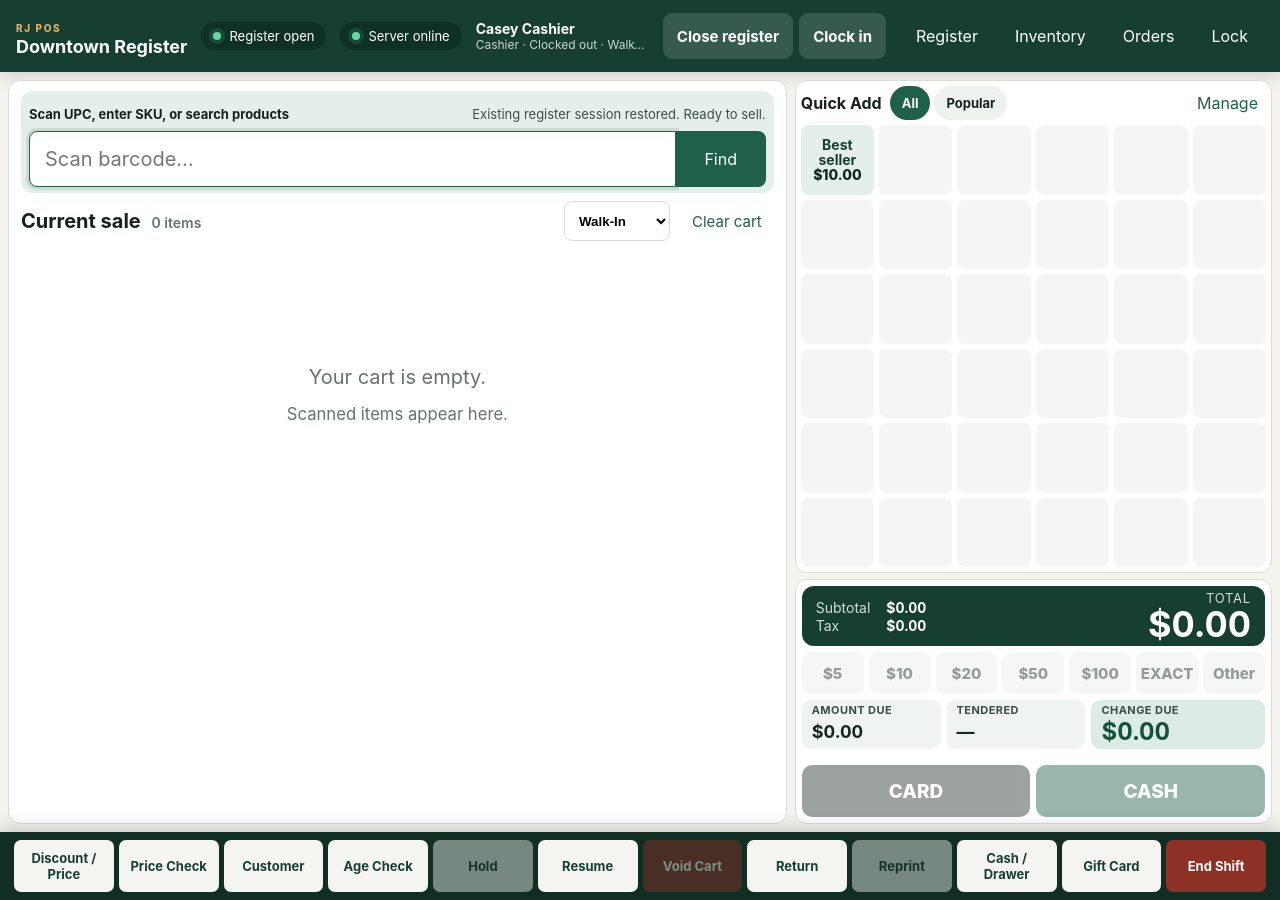
Scenario: Phase 7 touch register and HID scanning › holds the active cart with cashier-safe feedback
The image size is (1280, 900).
Click the button "Best seller $10.00": x=837, y=160 [801, 125, 874, 194]
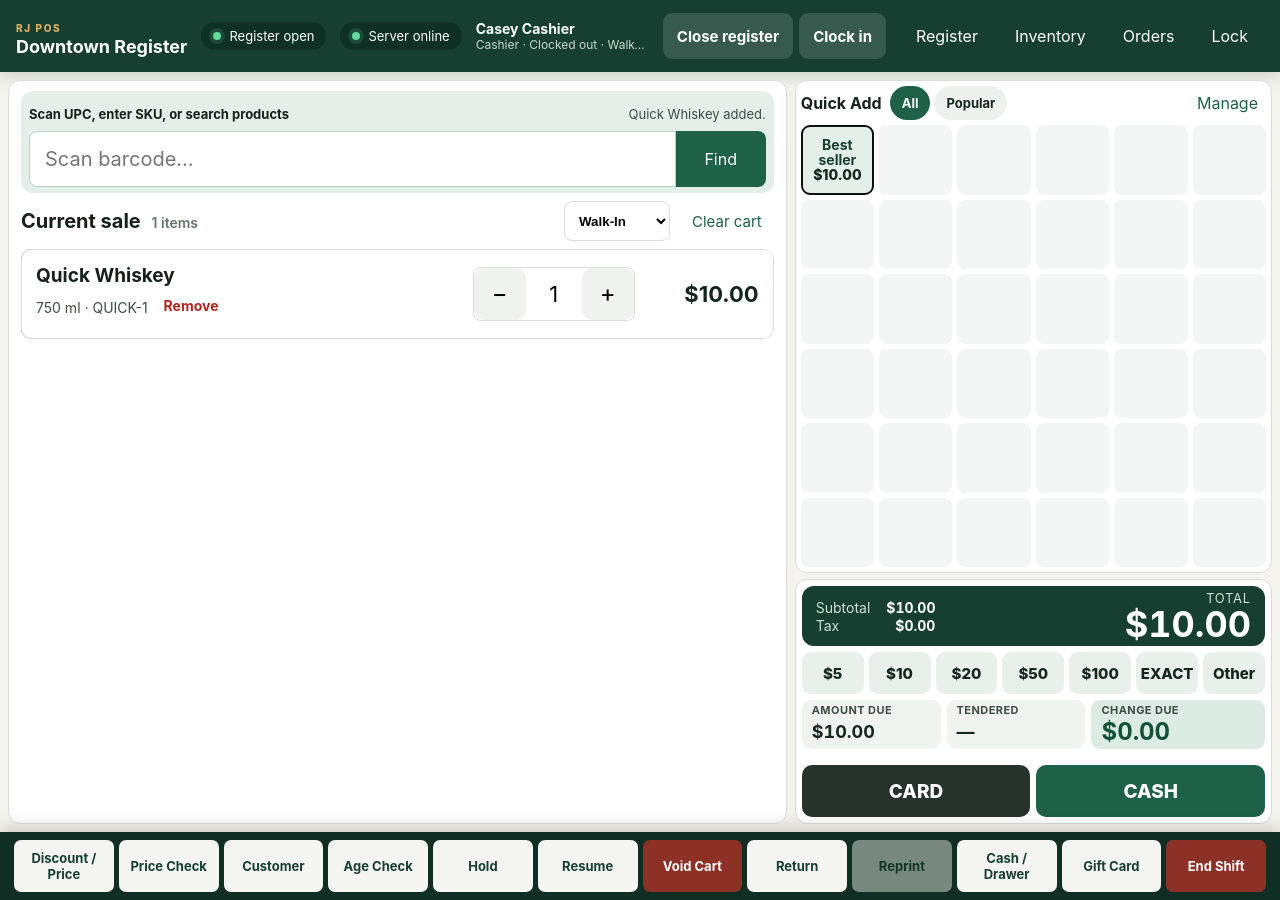
Click the button "Hold": x=483, y=866 [433, 840, 533, 892]
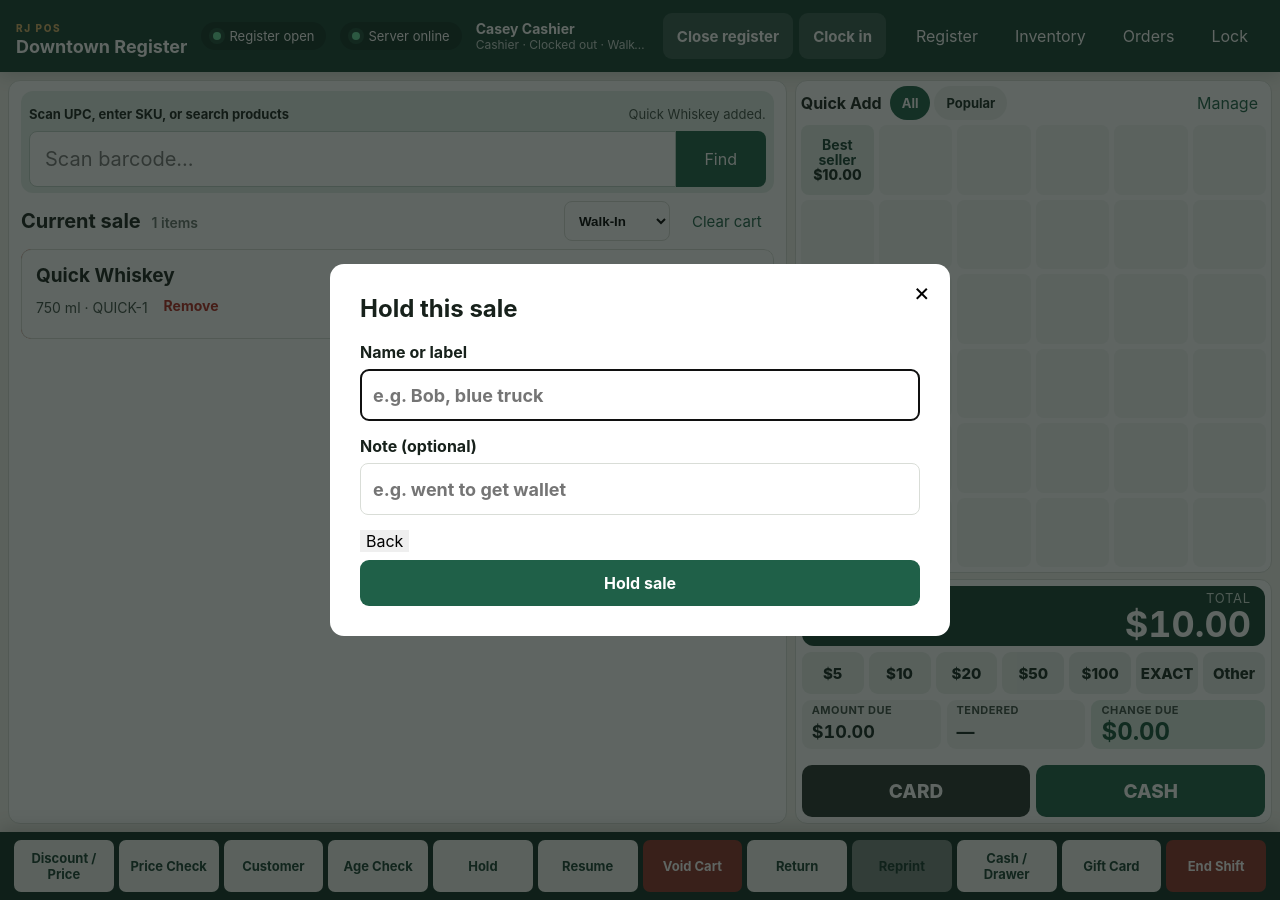
In the field named "Hold name": x=640, y=396 [360, 370, 920, 422], type "Bob"
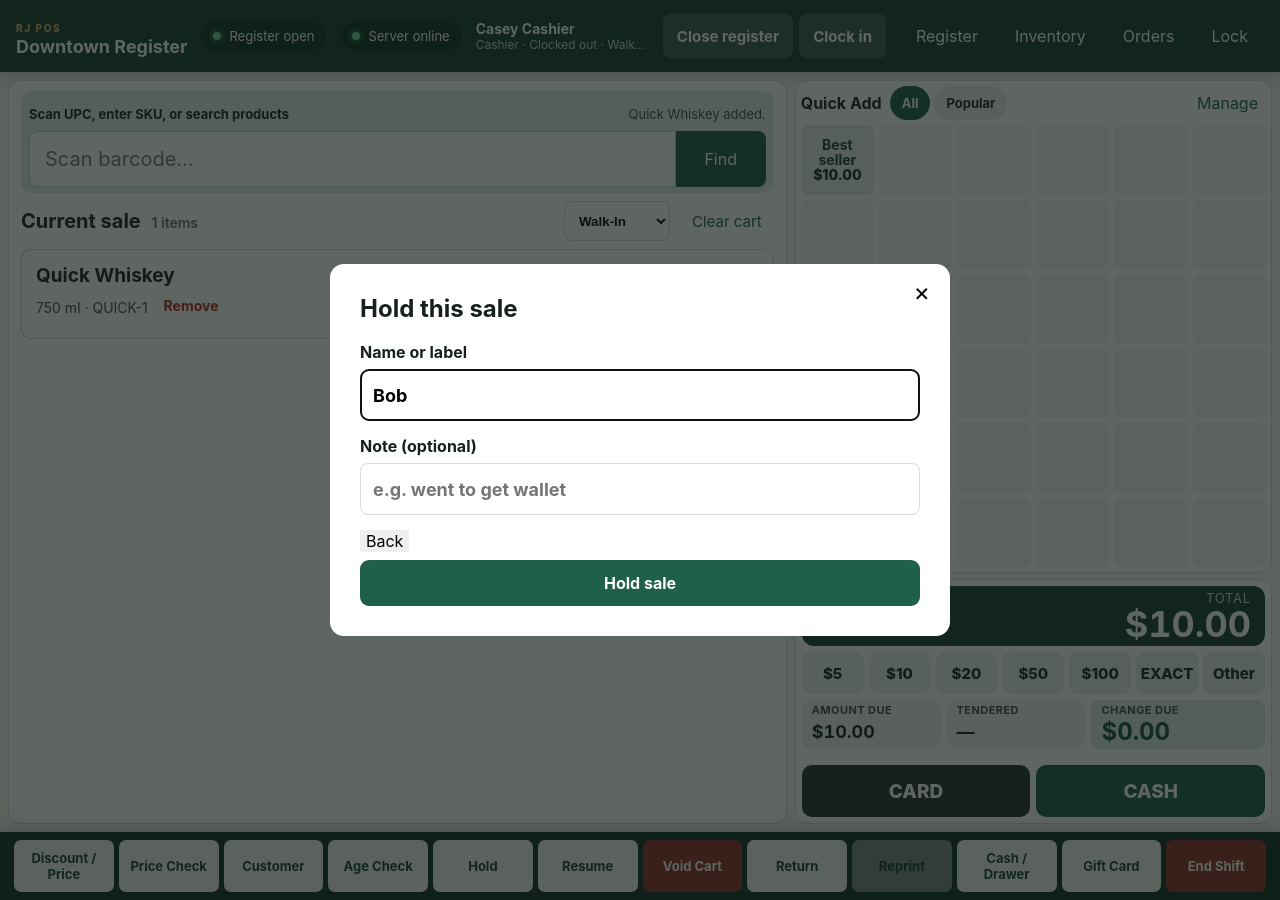
In the field named "Hold note": x=640, y=490 [360, 464, 920, 516], type "back soon"
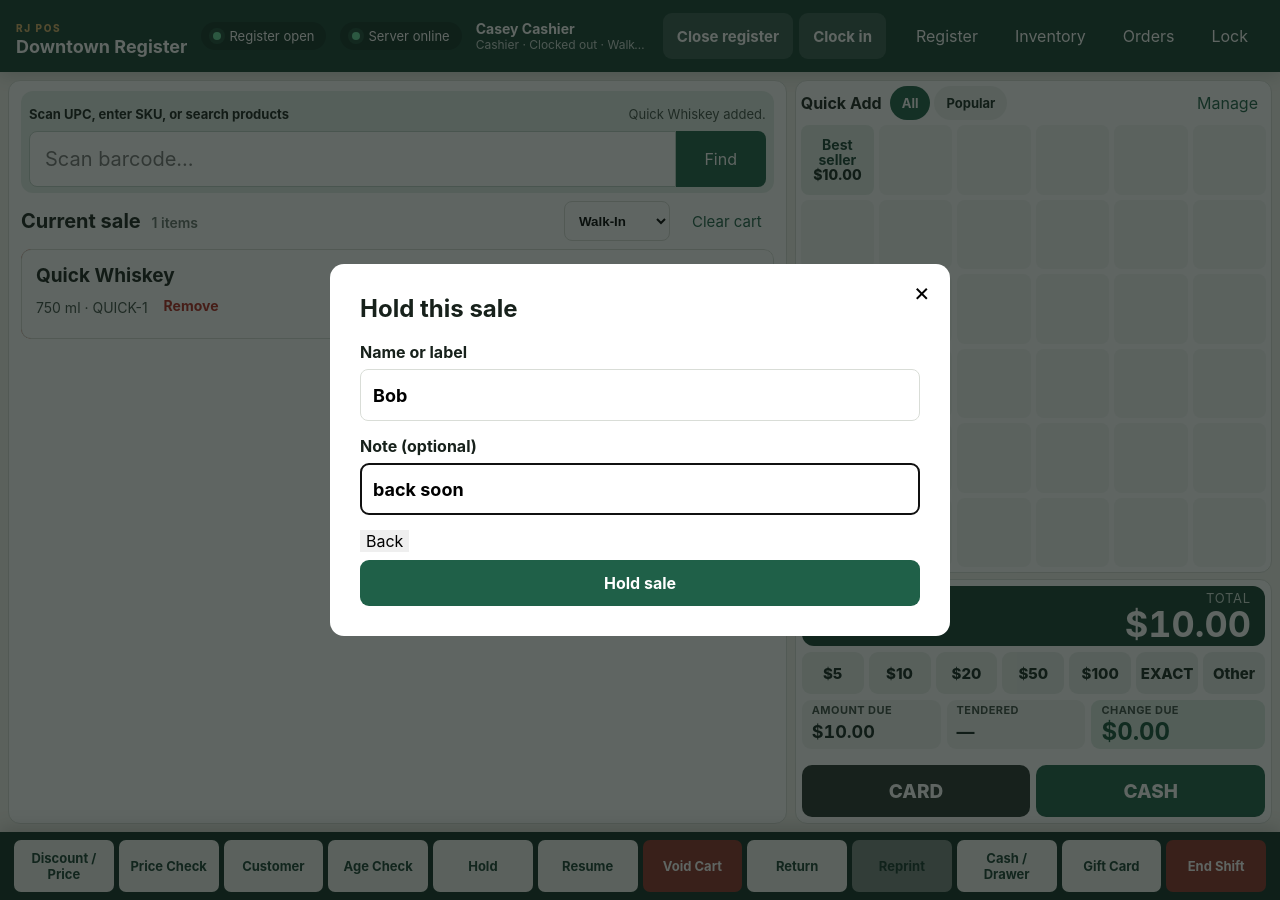
Click the button "Hold sale": x=640, y=584 [360, 560, 920, 606]
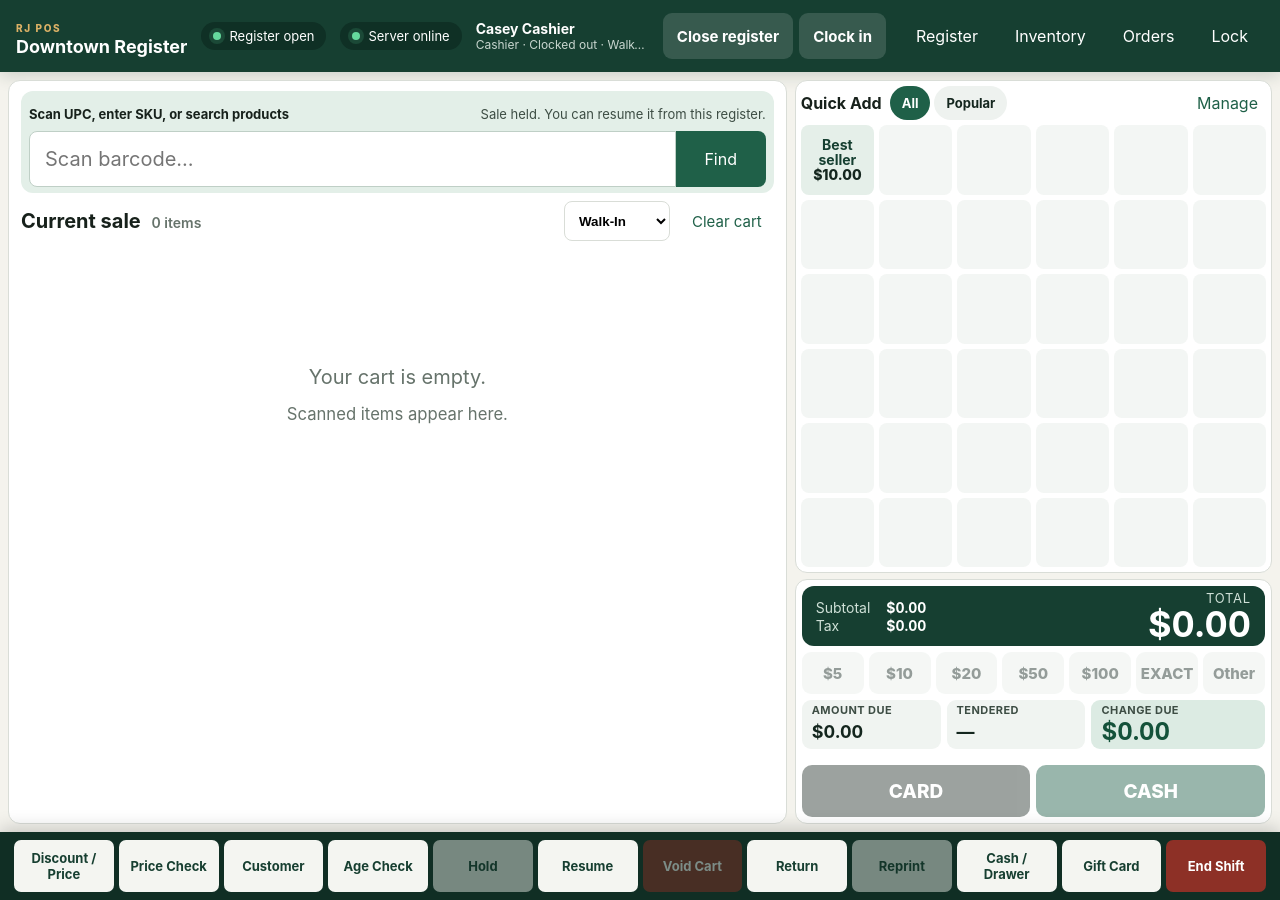
Expected: the text "Sale held. You can resume it from this register." is shown, [481, 106, 766, 122]
